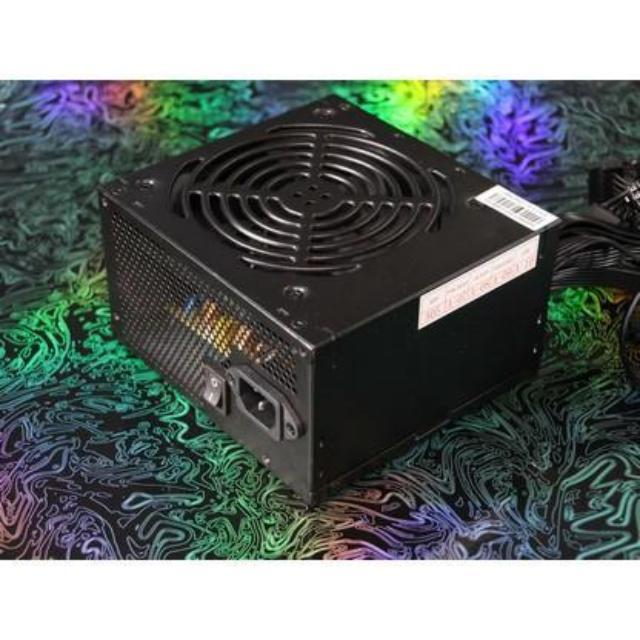PSU: (98, 89, 564, 514)
